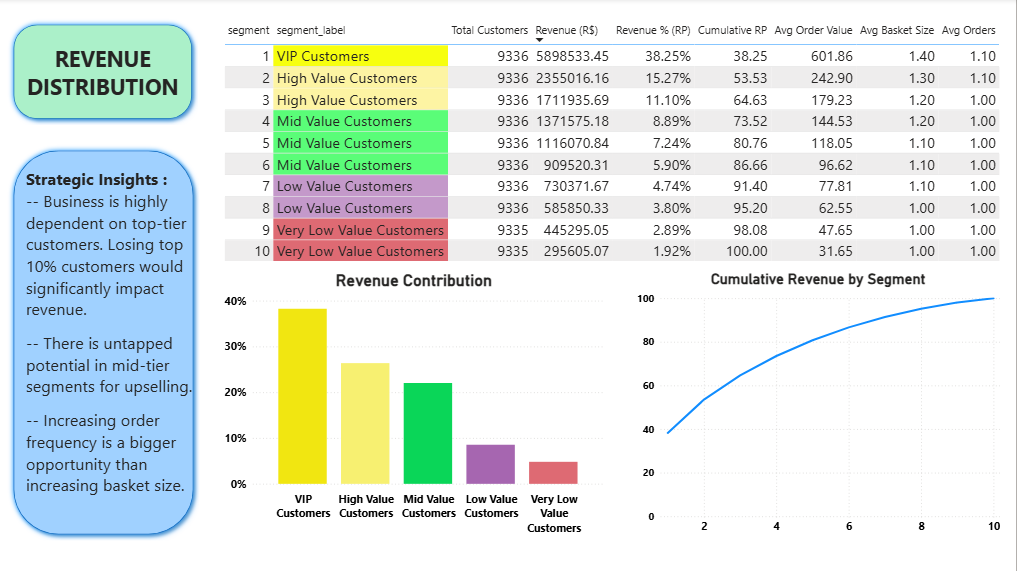

What the dashboard file says about the page in this screenshot:
{"tool":"powerbi","page":{"name":"Revenue Distribution","canvas":[1500,850],"ordinal":3},"visuals":[{"type":"tableEx","fields":{"Values":["Revenue Distribution.segment","Revenue Distribution.segment_label","Sum(Revenue Distribution.number_of_customers)","Sum(Revenue Distribution.revenue_contribution)","Sum(Revenue Distribution.revenue_percentage)","Sum(Revenue Distribution.cumulative_revenue_percentage)","Sum(Revenue Distribution.avg_order_value_per_segment)","Avg(Revenue Distribution.avg_basket_size)","Avg(Revenue Distribution.avg_number_of_orders_per_customer)"]},"box":[325.5,28.8,1156,372.1],"z":0},{"type":"columnChart","title":"Revenue Contribution","fields":{"Category":["Revenue Distribution.segment_label"],"Y":["Sum(Revenue Distribution.revenue_percentage)"]},"box":[325.5,400.8,571.4,398.6],"z":1000},{"type":"lineChart","title":"Cumulative Revenue by Segment","fields":{"Category":["Revenue Distribution.segment"],"Y":["Sum(Revenue Distribution.cumulative_revenue_percentage)"]},"box":[934.6,400.8,547,398.6],"z":2000},{"type":"shape","box":[11.1,28.8,281.3,157.2],"z":3000},{"type":"textbox","box":[33.2,59.8,237,95.2],"z":4000},{"type":"shape","box":[11.1,214.8,283.5,584.7],"z":5000},{"type":"textbox","box":[33.2,243.6,259.1,527.1],"z":6000}]}

Visuals, with their boxes in screenshot pixels (x1, y1, x2, y2), scaled from the page's 1500x850 canvas onto the 1017x571 screenshot:
tableEx - Revenue Distribution.segment x Revenue Distribution.segment_label: pyautogui.locateOnScreen(221, 19, 1004, 269)
"Revenue Contribution" columnChart: pyautogui.locateOnScreen(221, 269, 608, 537)
"Cumulative Revenue by Segment" lineChart: pyautogui.locateOnScreen(634, 269, 1005, 537)
shape: pyautogui.locateOnScreen(8, 19, 198, 125)
textbox: pyautogui.locateOnScreen(23, 40, 183, 104)
shape: pyautogui.locateOnScreen(8, 144, 200, 537)
textbox: pyautogui.locateOnScreen(23, 164, 198, 518)
